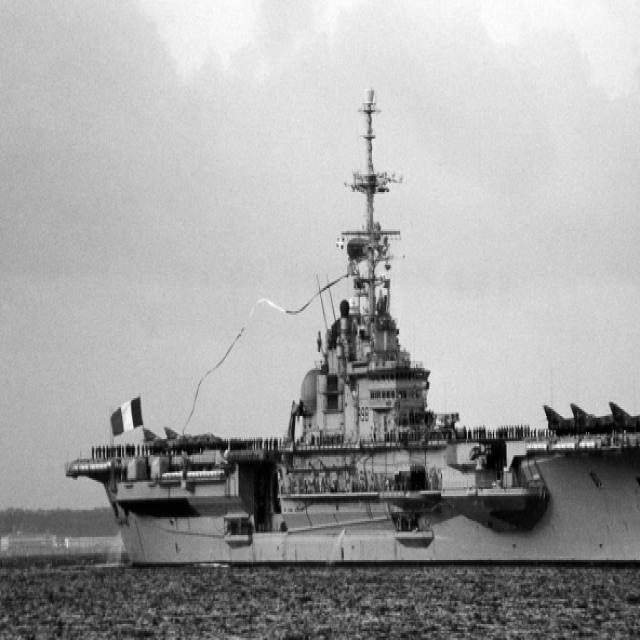Portanaves: (57, 86, 640, 579)
